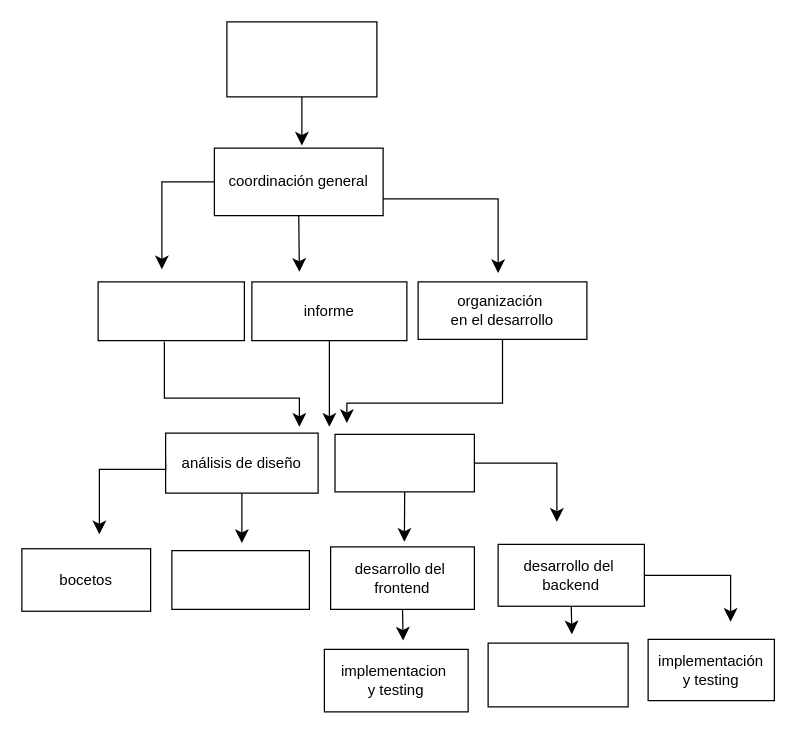
The diagram is 796 pixels wide and 734 high, and some of its shapes have lost their labels. Each missing label, with the box of its shape:
análisis de estrategia: (97, 281, 244, 341)
desarrollo del sistema: (334, 433, 474, 492)
diagramas: (487, 642, 628, 707)
Leandal: (226, 21, 377, 97)
prototipo: (171, 549, 309, 609)
